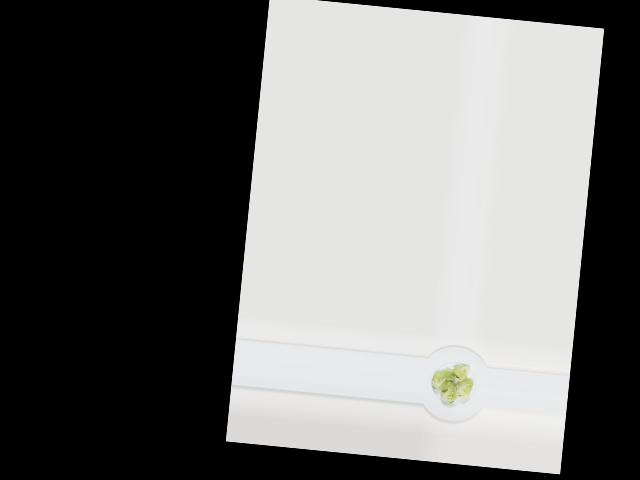lettuce: (425, 360, 474, 407)
